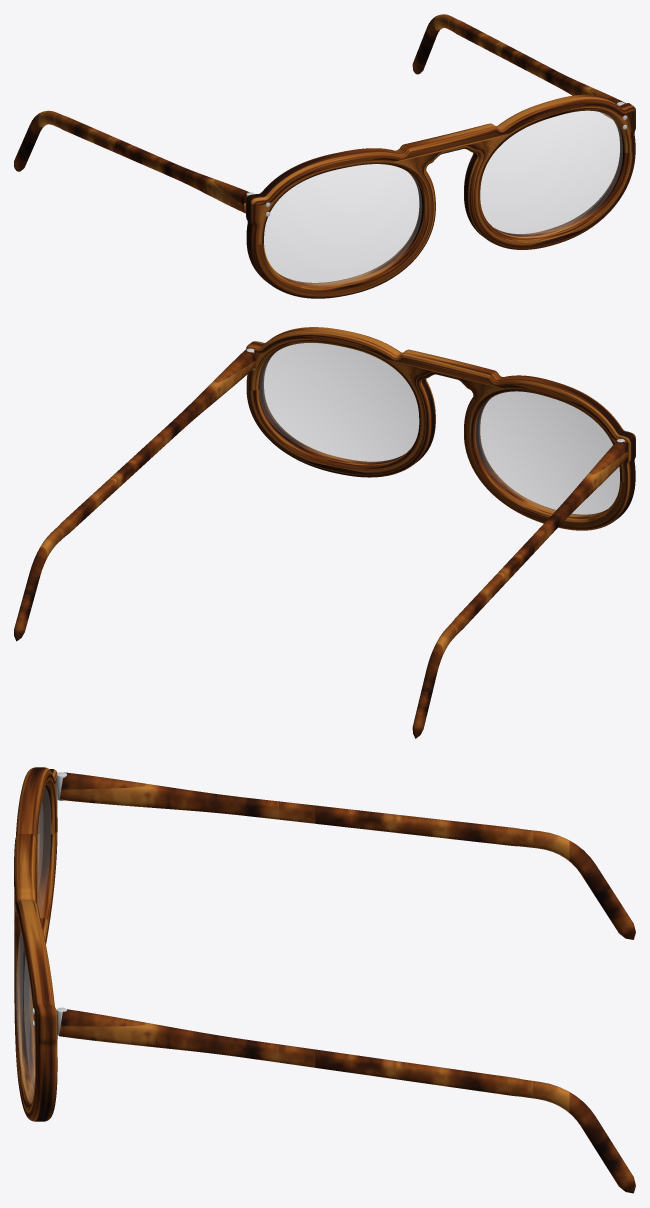
Rendered from nora-l.glb.
The picture shows the model from 3 angles, top to bottom: view 1: azimuth 30°, elevation 25°; view 2: azimuth 150°, elevation 25°; view 3: azimuth 270°, elevation 25°; orthographic projection. The views are drawn at different scales.
Parts seen in each view (by area): view 1: Front, Lens_R, Lens_L, Temple_R, Temple_L; view 2: Front, Lens_L, Lens_R, Temple_L, Temple_R; view 3: Front, Temple_L, Temple_R, Lens_L, Lens_R.
Part boxes in pixels (left/top/right/bottom): Front: left=246, top=94, right=635, bottom=298; Lens_R: left=264, top=164, right=421, bottom=286; Lens_L: left=480, top=111, right=622, bottom=237; Temple_R: left=14, top=110, right=249, bottom=213; Temple_L: left=412, top=14, right=625, bottom=119; Front: left=246, top=327, right=635, bottom=530; Lens_L: left=259, top=343, right=418, bottom=463; Lens_R: left=476, top=391, right=619, bottom=516; Temple_L: left=14, top=349, right=255, bottom=641; Temple_R: left=412, top=441, right=628, bottom=738; Front: left=14, top=767, right=66, bottom=1121; Temple_L: left=59, top=1009, right=635, bottom=1193; Temple_R: left=59, top=772, right=635, bottom=939; Lens_L: left=16, top=931, right=34, bottom=1102; Lens_R: left=38, top=788, right=50, bottom=916.
Size of the model in its own units: 0.1445 by 0.0553 by 0.1468.
4 materials, 2 textured.
